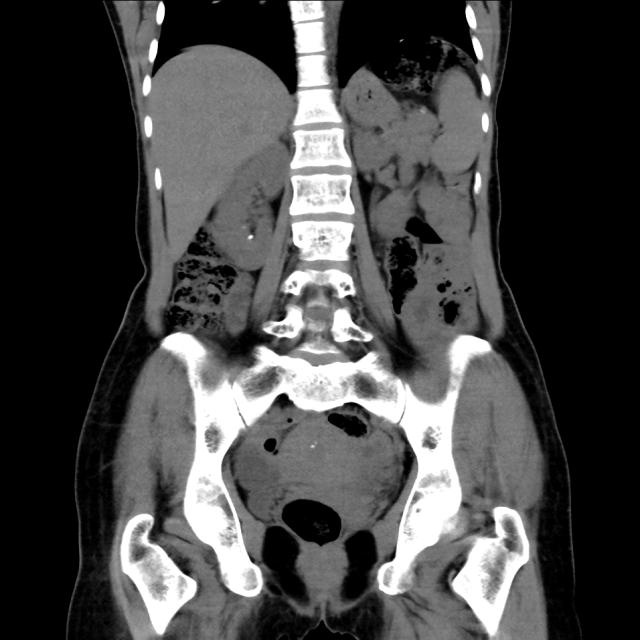kidneystone: (243, 224, 257, 240)
